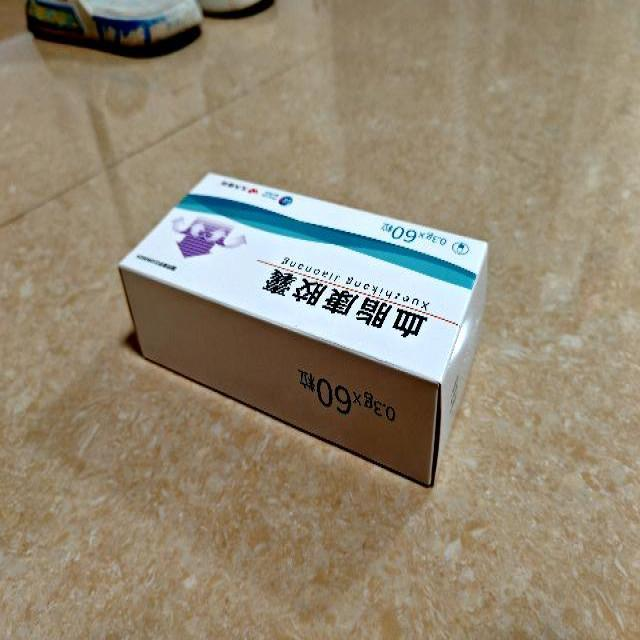box: (120, 169, 490, 487)
